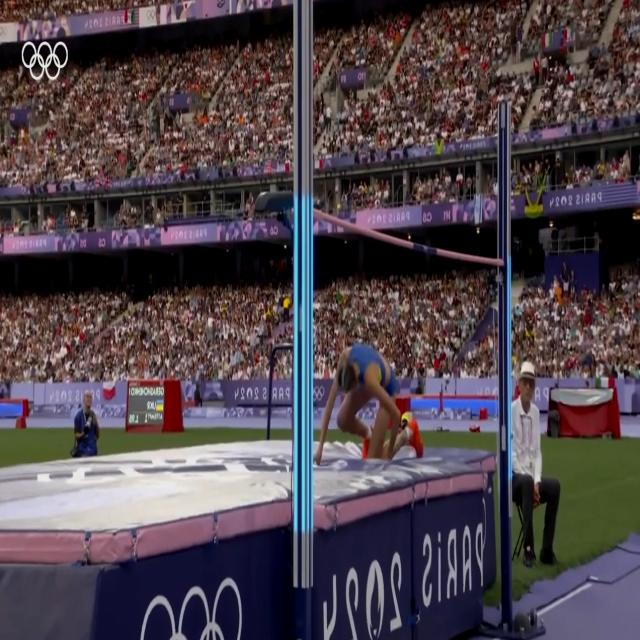land: (314, 345, 422, 468)
